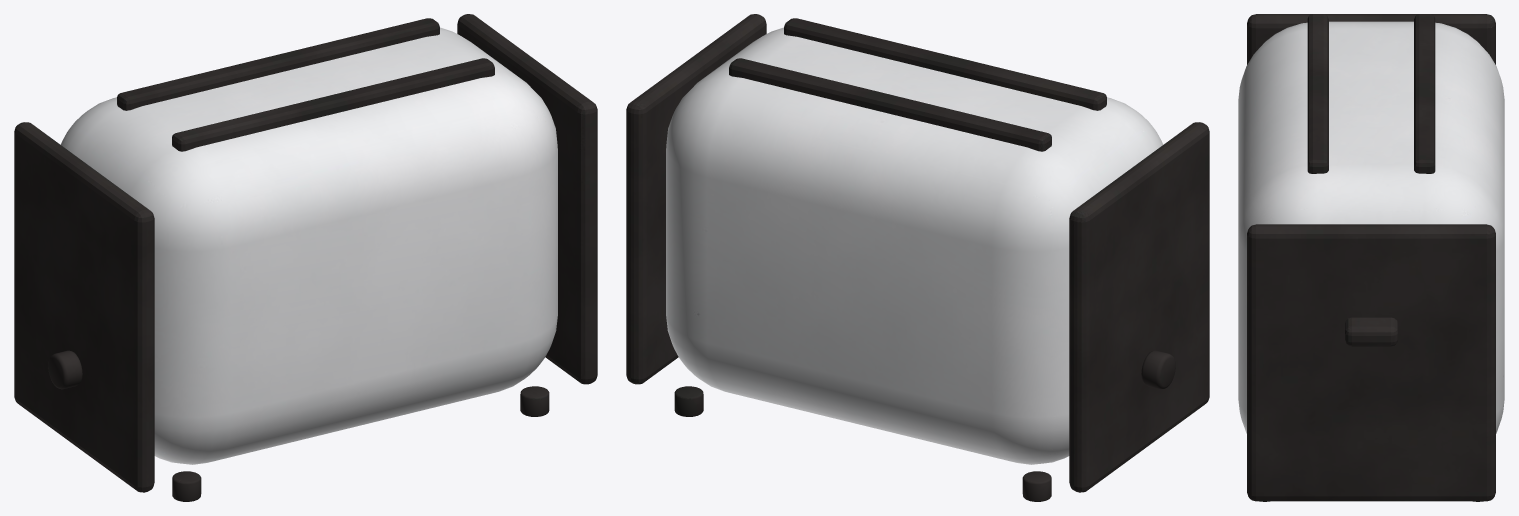
File: np_toaster_1k.fbx
3 renders of one model, left to right at view 1: azimuth 30°, elevation 25°; view 2: azimuth 150°, elevation 25°; view 3: azimuth 270°, elevation 25°, orthographic. The views are drawn at different scales.
Visible parts, largest first — view 1: np_toaster; view 2: np_toaster; view 3: np_toaster.
Part boxes in pixels (x1,y1,x2,y2): np_toaster: [14, 14, 597, 501]; np_toaster: [626, 14, 1209, 501]; np_toaster: [1238, 14, 1504, 501].
Size of the model in its own units: 0.32 by 0.203 by 0.15.
Materials: 1 (1 with a texture image).
